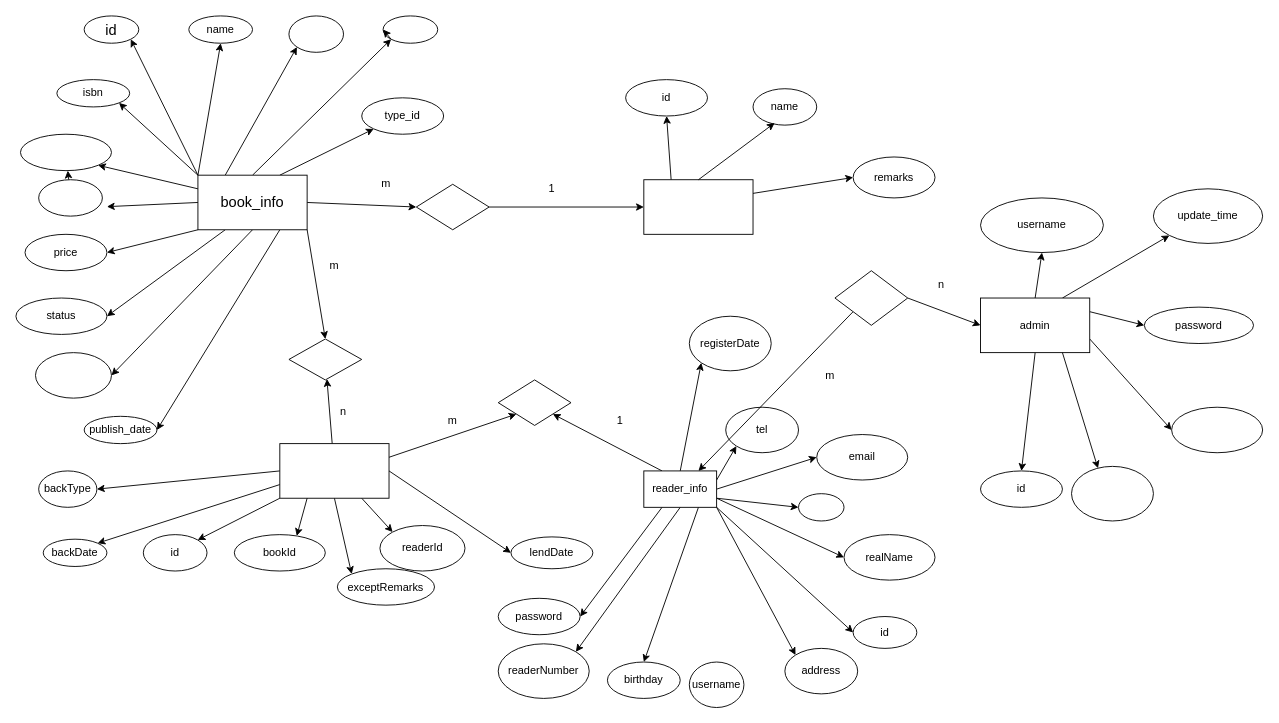
The diagram is 1279 pixels wide and 723 high, and some of its shapes have lost their labels. The shapes that lost their labels are listed below. From the top down, each one's centre as x and y in pixels, then its label:
the point at 316,33: authow
the point at 410,29: publish
the point at 65,152: introduction
the point at 70,197: language
the point at 452,206: 类型
the point at 698,206: type_info
the point at 871,297: 管理
the point at 73,375: stock
the point at 325,359: 借出
the point at 534,402: 借书
the point at 1217,429: admin_type
the point at 334,470: lend_list
the point at 821,507: sex
the point at 1112,493: create_time
